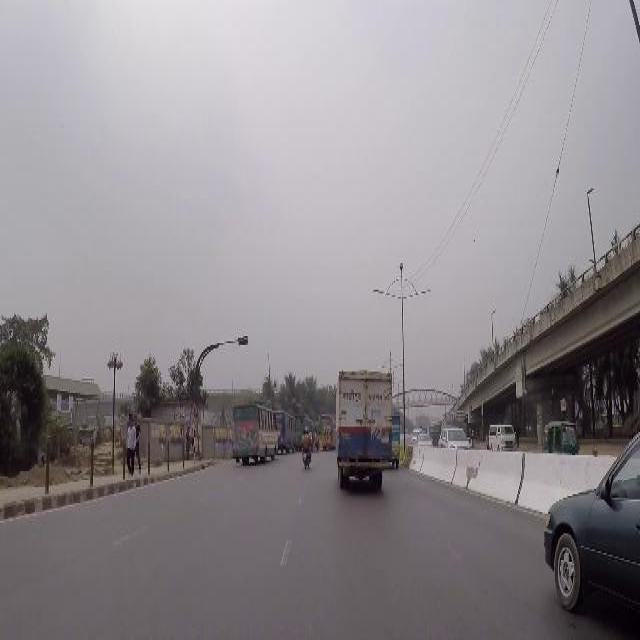10: (300, 424, 312, 468)
11: (333, 366, 392, 487), (392, 410, 400, 468)
17: (541, 418, 579, 452)
19: (488, 421, 516, 450)
5: (543, 412, 639, 620), (439, 425, 471, 450), (415, 432, 433, 446), (411, 430, 421, 446)
Truck: (232, 399, 278, 461), (274, 408, 296, 452), (445, 409, 467, 437), (428, 415, 440, 445)
